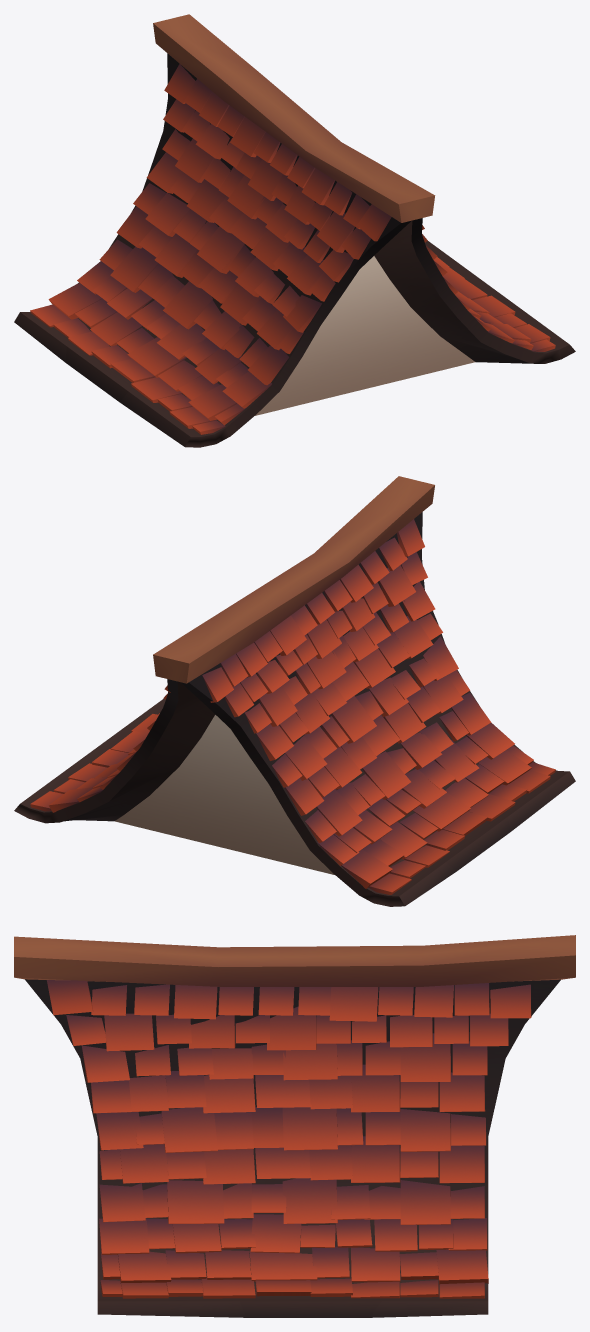
The model's file is RoofB01.fbx.
3 renders of one model, top to bottom at view 1: azimuth 30°, elevation 25°; view 2: azimuth 150°, elevation 25°; view 3: azimuth 270°, elevation 25°, orthographic. The views are drawn at different scales.
Parts seen in each view (by area): view 1: RoofB01; view 2: RoofB01; view 3: RoofB01.
Part boxes in pixels (x1,y1,x2,y2): RoofB01: [14, 14, 575, 447]; RoofB01: [14, 476, 575, 906]; RoofB01: [14, 935, 575, 1317].
Size of the model in its own units: 1039 by 598 by 1131.
1 material, 1 textured.
